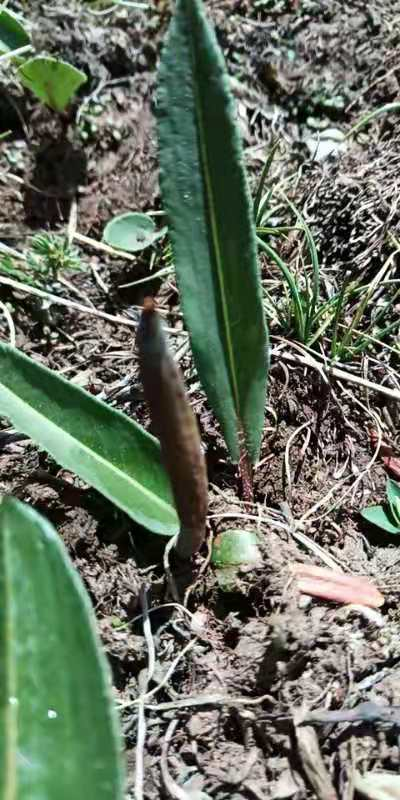cpf: (131, 296, 210, 567)
